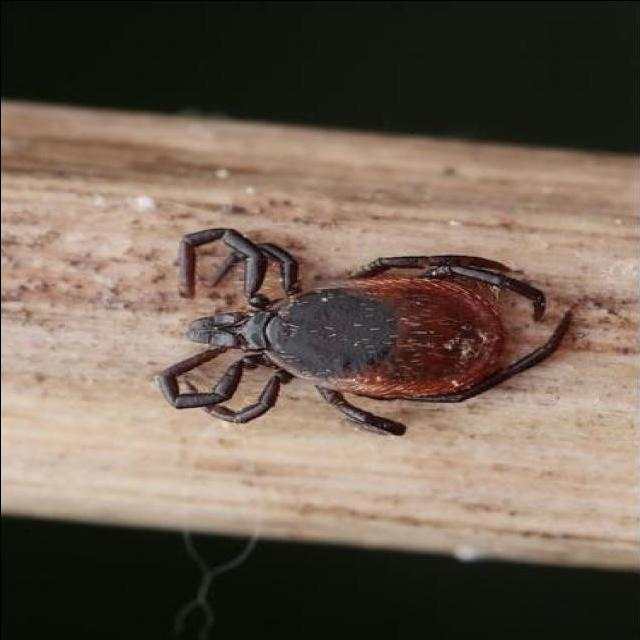Ixodes Ricinus-F: (159, 227, 575, 436)
